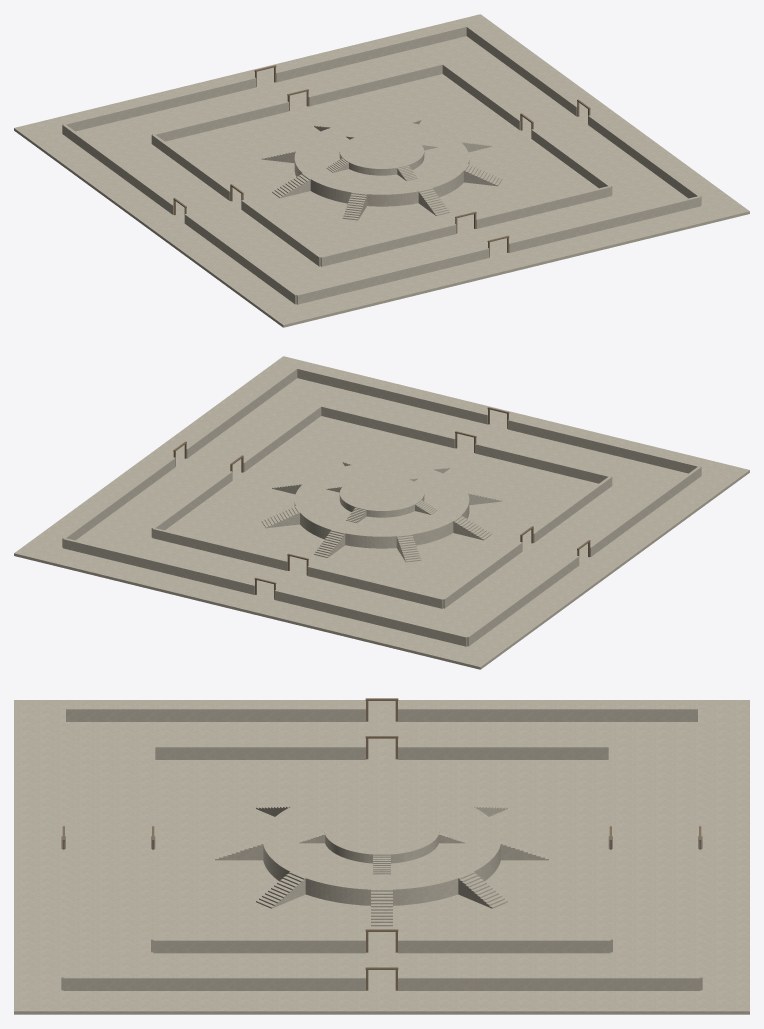
Rendered from south-altar-B.glb.
3 renders of one model, top to bottom at view 1: azimuth 30°, elevation 25°; view 2: azimuth 150°, elevation 25°; view 3: azimuth 270°, elevation 25°, orthographic. The views are drawn at different scales.
Visible parts, largest first — view 1: B_presentation_ground, B_outer_earth_enclosure, B_lower_platform_with_stairs, B_inner_earth_enclosure, B_upper_platform_with_stairs; view 2: B_presentation_ground, B_outer_earth_enclosure, B_lower_platform_with_stairs, B_inner_earth_enclosure, B_upper_platform_with_stairs; view 3: B_presentation_ground, B_lower_platform_with_stairs, B_outer_earth_enclosure, B_inner_earth_enclosure, B_upper_platform_with_stairs.
Boxes of the visible parts, bbox=[...] form: B_presentation_ground: bbox=[14, 14, 749, 327]; B_outer_earth_enclosure: bbox=[62, 25, 701, 304]; B_lower_platform_with_stairs: bbox=[261, 118, 502, 220]; B_inner_earth_enclosure: bbox=[151, 63, 612, 266]; B_upper_platform_with_stairs: bbox=[326, 133, 437, 181]; B_presentation_ground: bbox=[14, 356, 749, 669]; B_outer_earth_enclosure: bbox=[62, 367, 701, 646]; B_lower_platform_with_stairs: bbox=[261, 460, 502, 562]; B_inner_earth_enclosure: bbox=[151, 405, 612, 608]; B_upper_platform_with_stairs: bbox=[326, 475, 437, 523]; B_presentation_ground: bbox=[14, 700, 749, 1014]; B_lower_platform_with_stairs: bbox=[215, 783, 548, 926]; B_outer_earth_enclosure: bbox=[61, 707, 702, 990]; B_inner_earth_enclosure: bbox=[151, 745, 612, 953]; B_upper_platform_with_stairs: bbox=[299, 803, 464, 874].
Bounding box in the file's own units: 74 × 3.2 × 74.
Materials: 2 (2 with a texture image).
